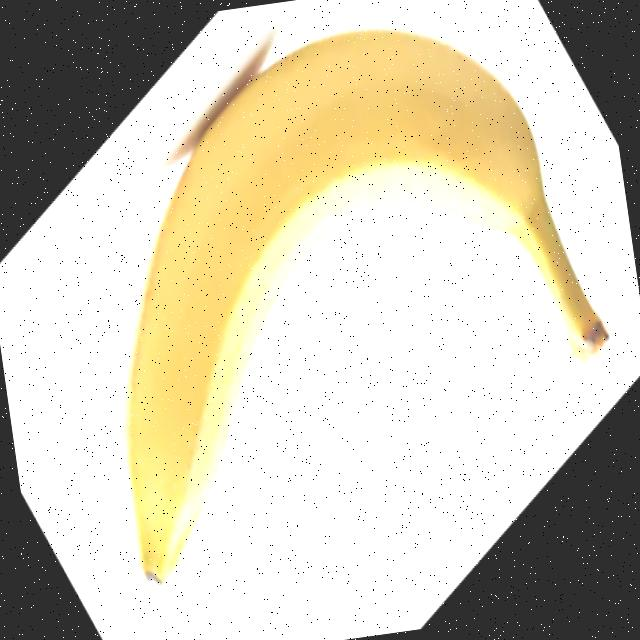banana: (67, 1, 638, 594)
